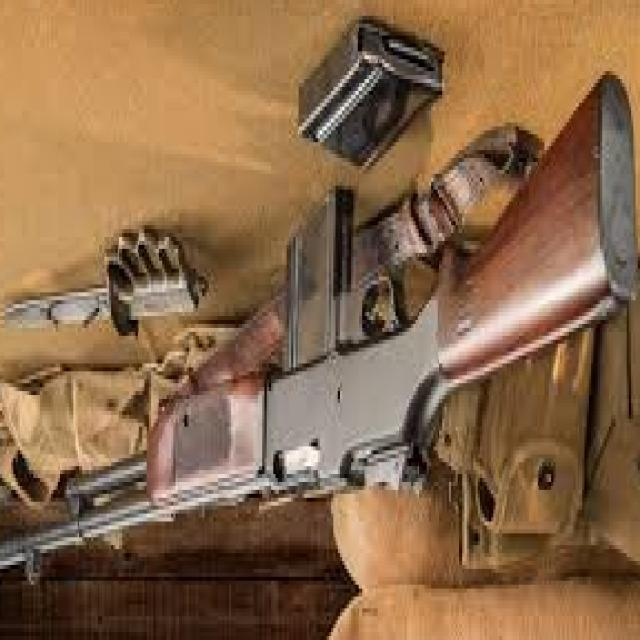Gun: (0, 67, 640, 605)
